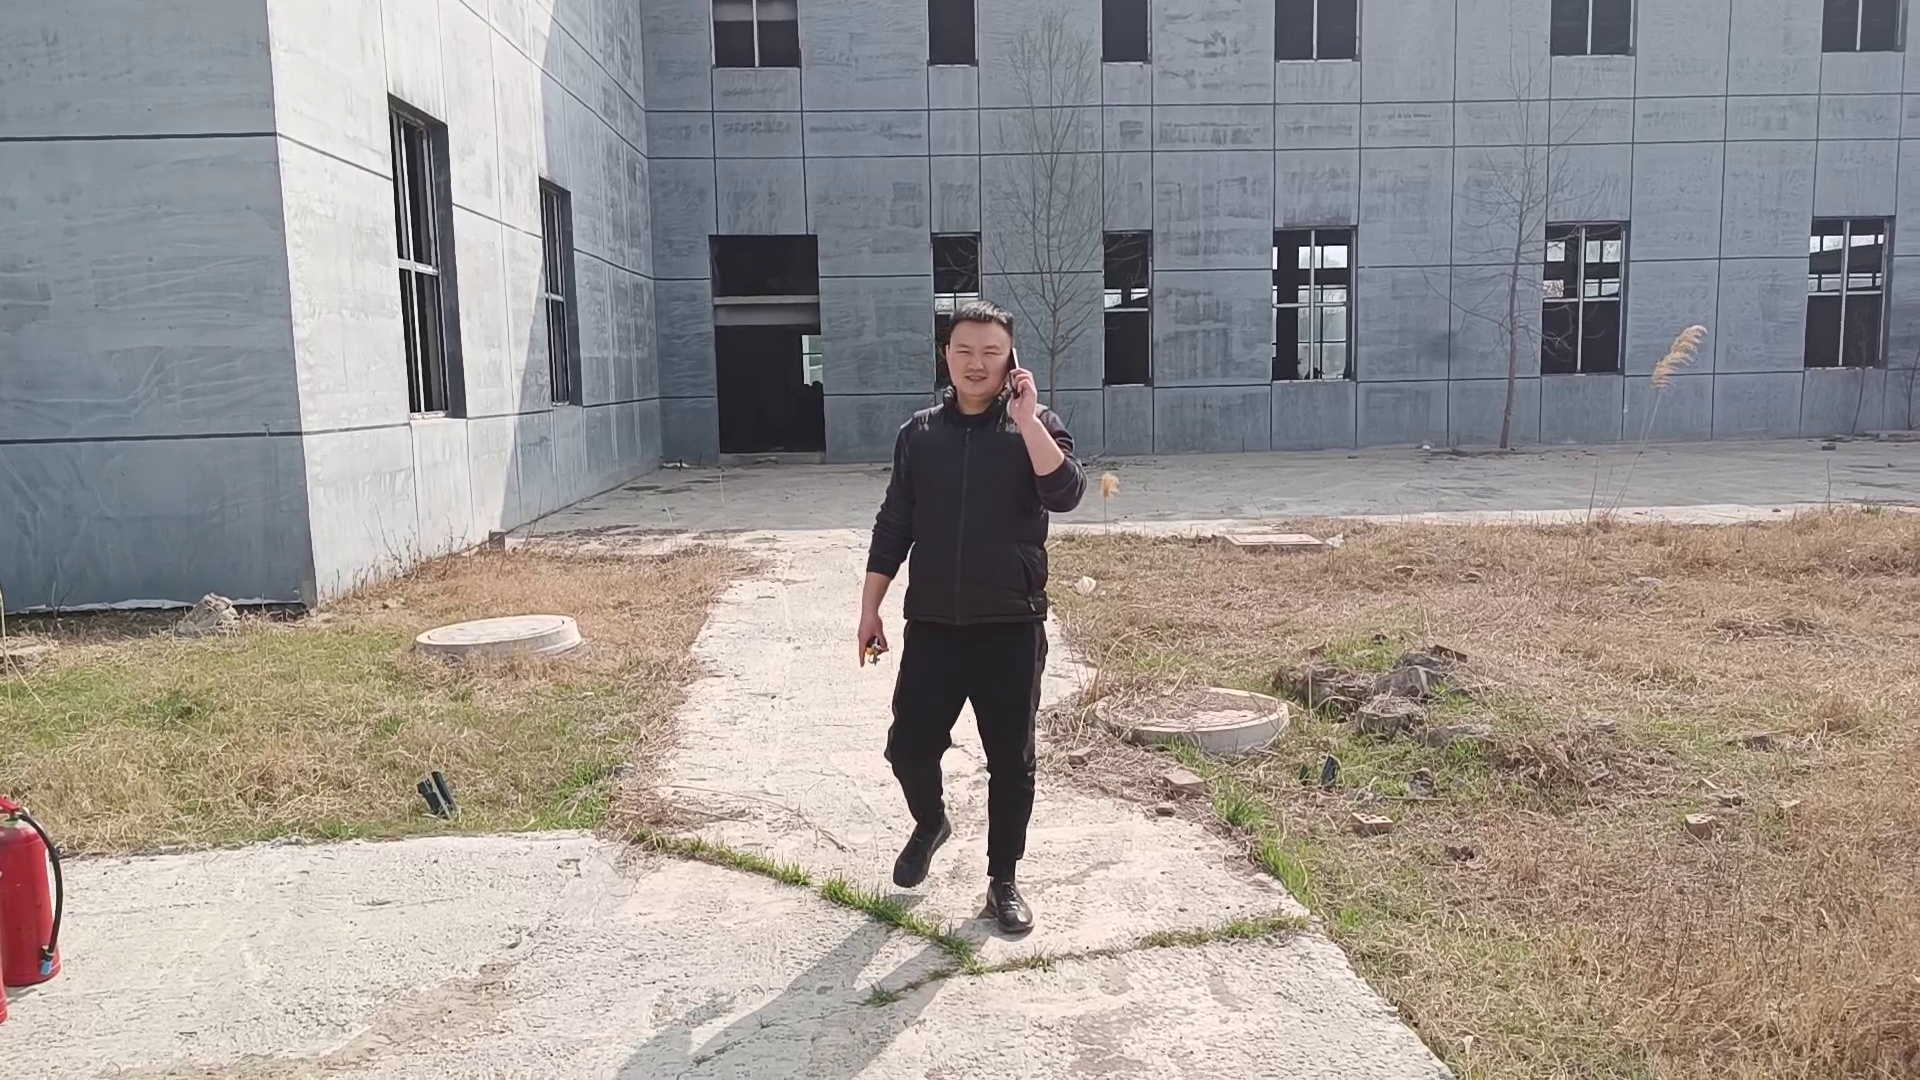phone: (938, 293, 1038, 415)
